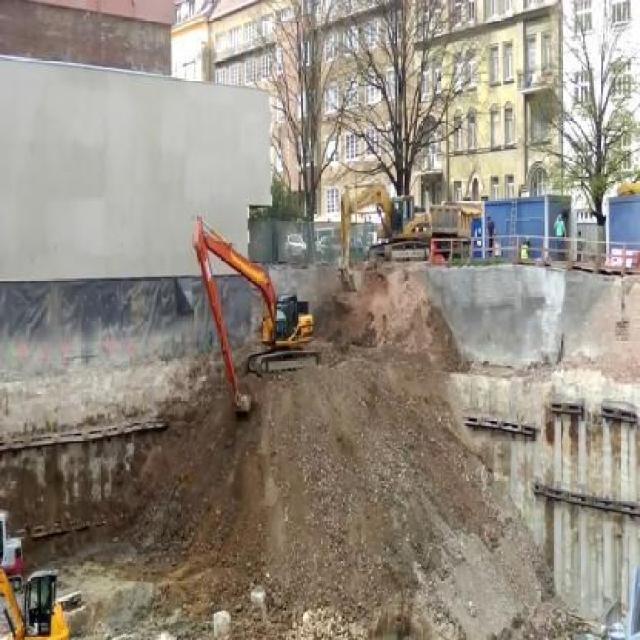dump_truck: (427, 170, 482, 268)
excavator: (190, 206, 321, 422), (339, 165, 432, 307)
